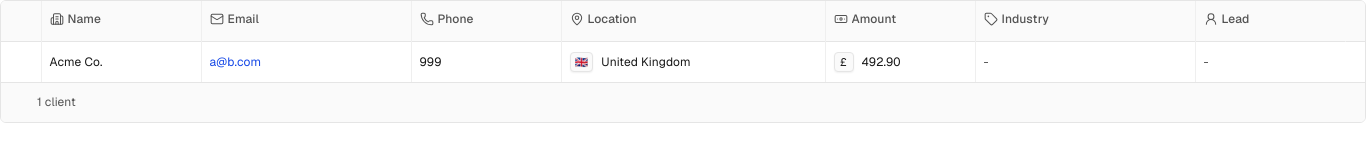
Test: ClientsTable › shows a foreign client’s price in their currency, and the chip toggles it to INR
Expected: the cell "£ 492.90" is shown, x1=825 y1=42 x2=975 y2=82
What coordinates should you click on to do the following:
click the button named "show in pound sterling"
I would click on:
 (844, 62)
Its box is x1=834 y1=52 x2=854 y2=72.
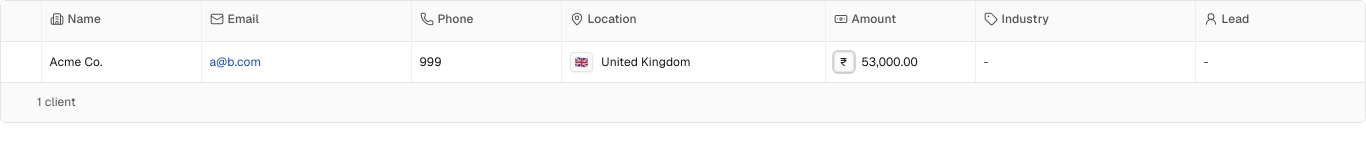
Result: the cell "₹ 53,000.00" is shown at x1=825 y1=42 x2=975 y2=82
